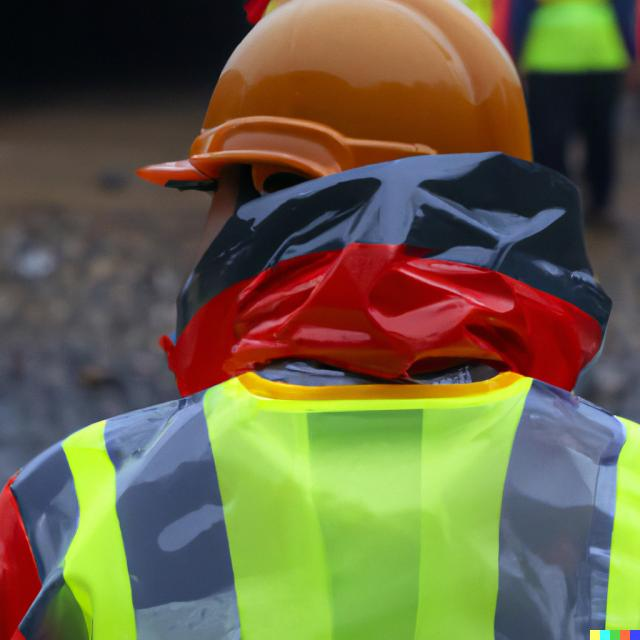Reflective-Jacket: (9, 379, 640, 640)
Safety-Helmet: (140, 3, 548, 205)
